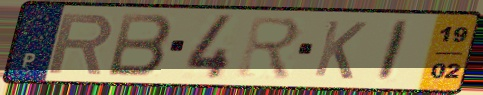4: (182, 12, 234, 82)
B: (104, 11, 176, 79)
I: (373, 18, 414, 84)
K: (310, 18, 370, 82)
R: (45, 11, 116, 77), (235, 14, 303, 82)
